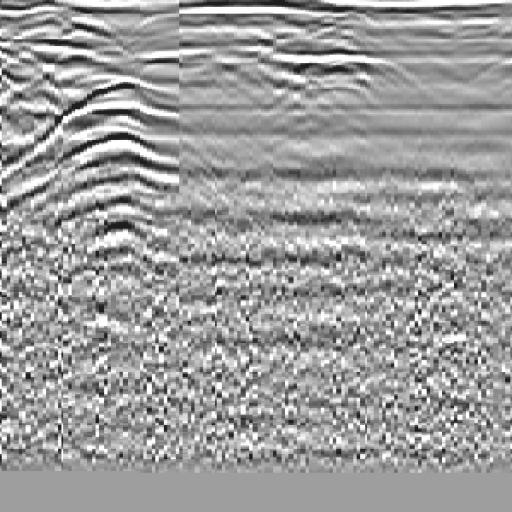metalic: (2, 72, 191, 268)
